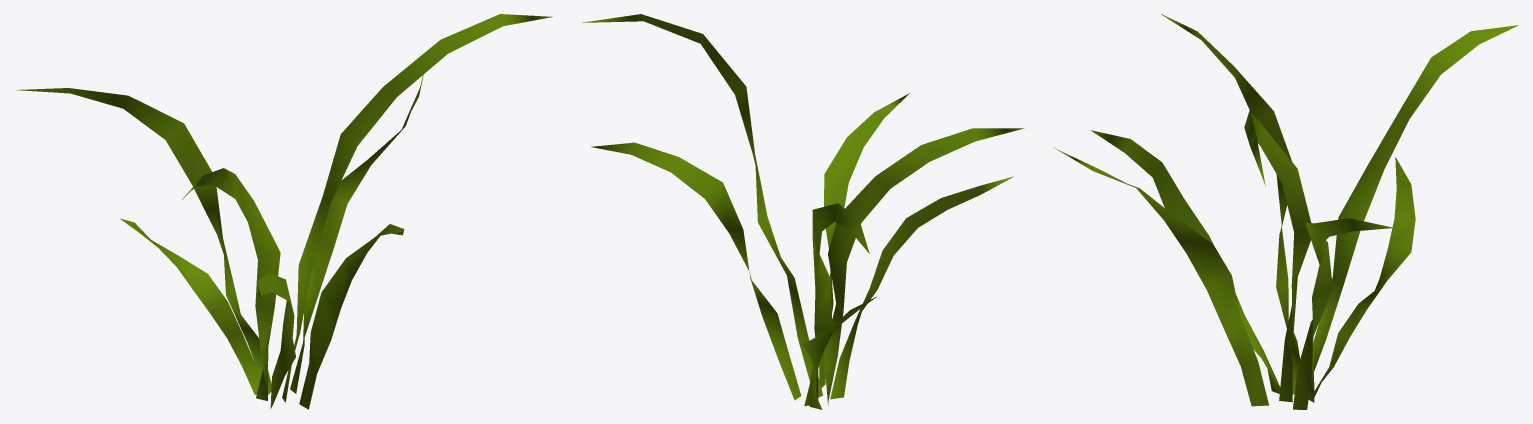
The model's file is GrassLong03.fbx.
The picture shows the model from 3 angles, left to right: view 1: azimuth 30°, elevation 25°; view 2: azimuth 150°, elevation 25°; view 3: azimuth 270°, elevation 25°; orthographic projection. The views are drawn at different scales.
Visible parts, largest first — view 1: GrassLong03_LOD0; view 2: GrassLong03_LOD0; view 3: GrassLong03_LOD0.
Part boxes in pixels (x1,y1,x2,y2): GrassLong03_LOD0: (16,14,552,409); GrassLong03_LOD0: (582,14,1024,409); GrassLong03_LOD0: (1053,14,1518,409).
Size of what is drawn, in the model's own units: 74.72 by 58.67 by 66.22.
